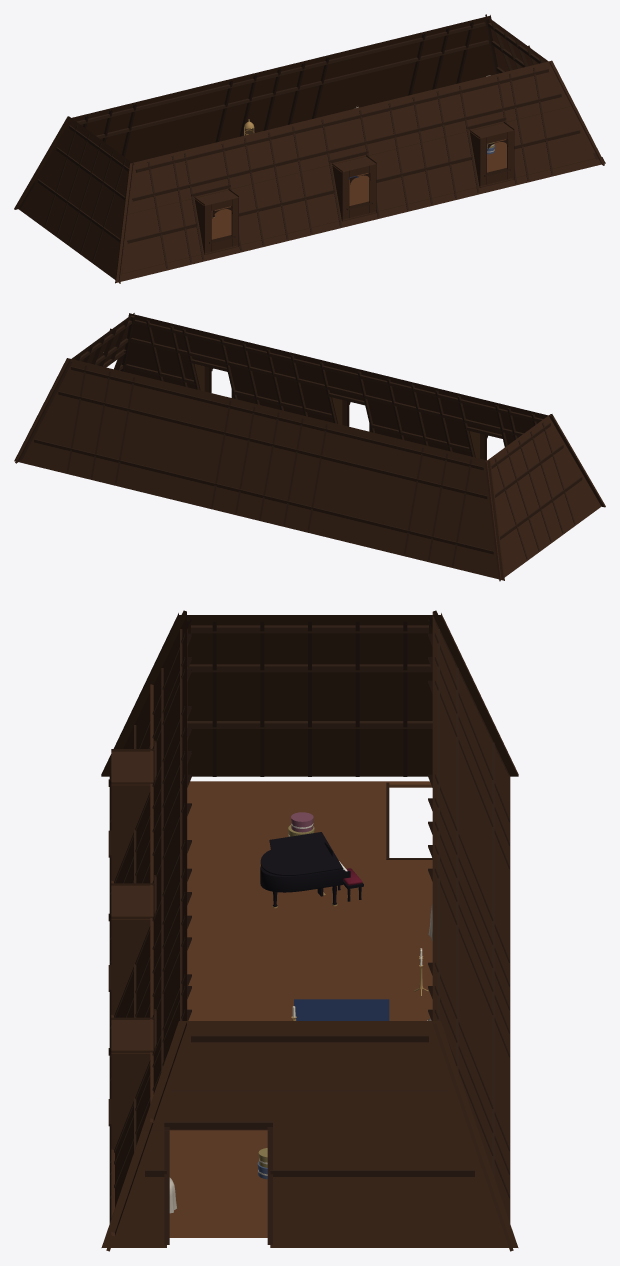
File: attic.glb
3 views of the same model, one above another, from view 1: azimuth 30°, elevation 25°; view 2: azimuth 150°, elevation 25°; view 3: azimuth 270°, elevation 25° (orthographic). The views are drawn at different scales.
Visible parts, largest first — view 1: Att_slope-front, Att_slope-back, Att_slope-left, Att_main, Att_slope-right; view 2: Att_slope-back, Att_slope-front, Att_slope-left, Att_slope-right; view 3: Att_main, Att_slope-right, Att_slope-left, Att_slope-back, Att_slope-front.
Part boxes in pixels (x1,y1,x2,y2): Att_slope-front: (115,60,605,283); Att_slope-back: (14,15,498,209); Att_slope-left: (18,116,134,283); Att_main: (211,75,506,239); Att_slope-right: (485,14,604,165); Att_slope-back: (14,358,504,580); Att_slope-front: (120,313,605,507); Att_slope-left: (485,414,601,581); Att_slope-right: (15,313,134,463); Att_main: (169,781,432,1237); Att_slope-right: (101,1021,518,1247); Att_slope-left: (101,613,518,776); Att_slope-back: (428,610,513,1251); Att_slope-front: (106,610,191,1251).
Bounding box in the file's own units: 28.5 × 5.44 × 10.5.
